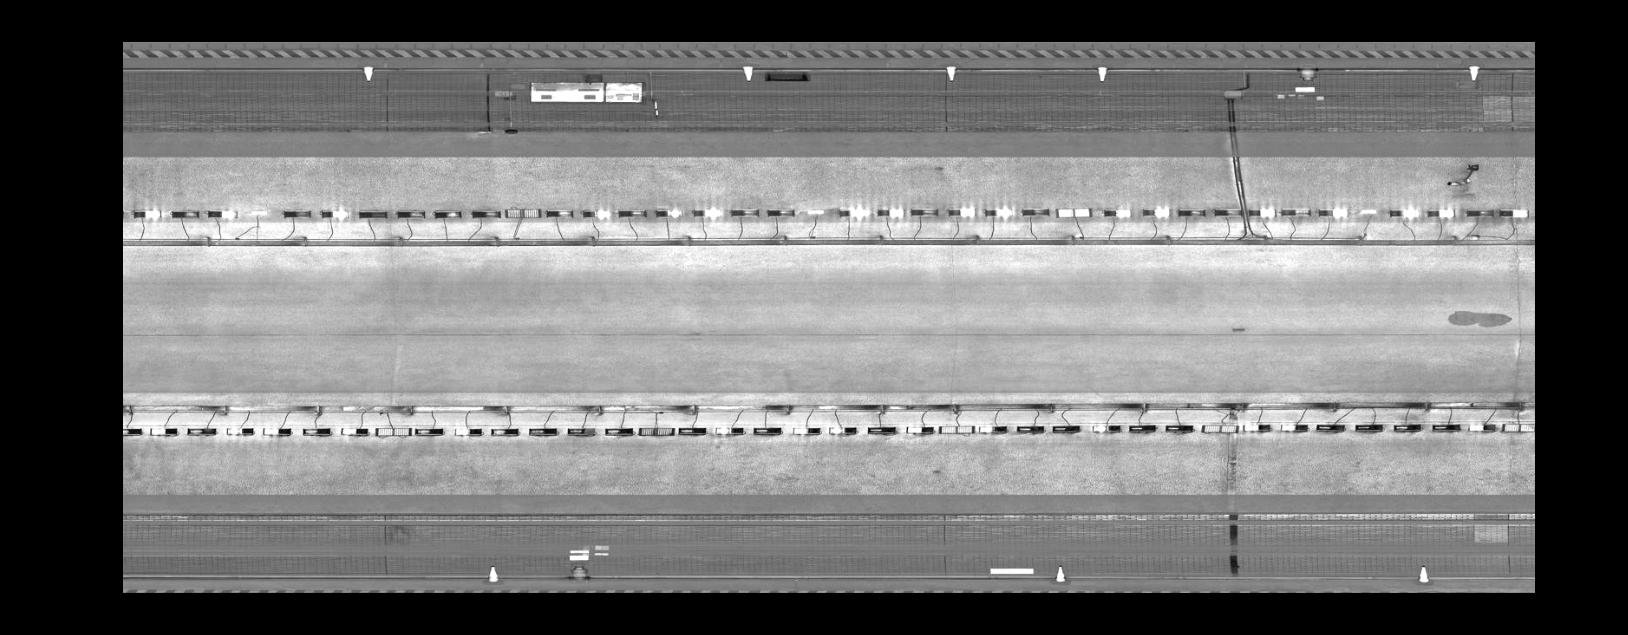light: (1052, 204, 1094, 220), (1198, 420, 1241, 435), (373, 423, 414, 438), (501, 205, 542, 220), (835, 203, 870, 220), (635, 423, 678, 437), (1139, 204, 1174, 220), (937, 422, 977, 436), (1102, 204, 1136, 220), (980, 203, 1014, 219), (1499, 419, 1534, 435), (1244, 203, 1279, 218), (336, 423, 372, 438), (564, 424, 598, 439), (452, 423, 486, 438), (430, 206, 466, 220), (183, 424, 219, 438), (1017, 204, 1051, 219), (907, 204, 941, 219), (526, 423, 560, 438), (1387, 206, 1422, 220), (468, 206, 504, 220), (355, 206, 390, 220), (864, 422, 899, 436), (144, 424, 180, 438), (131, 206, 163, 221), (203, 206, 241, 219), (1464, 420, 1501, 433), (392, 206, 427, 220), (318, 206, 352, 220), (280, 206, 315, 220), (825, 422, 860, 436), (412, 424, 446, 438), (260, 423, 294, 437), (1047, 422, 1083, 435), (711, 423, 748, 436), (874, 205, 907, 219), (1496, 206, 1531, 219), (1463, 206, 1498, 219), (1314, 205, 1350, 218), (1279, 204, 1314, 217), (1161, 422, 1196, 435), (1124, 422, 1160, 435), (1088, 422, 1123, 435), (901, 422, 937, 435), (580, 206, 613, 220), (489, 424, 521, 438), (300, 424, 332, 438), (1423, 206, 1458, 219), (223, 424, 257, 437), (946, 205, 977, 219), (1351, 421, 1387, 433), (764, 206, 797, 219), (728, 206, 761, 219), (615, 206, 648, 219), (543, 206, 576, 219), (168, 208, 201, 220), (1313, 421, 1347, 434), (1277, 421, 1310, 434), (976, 422, 1009, 435), (1209, 206, 1244, 218), (1429, 421, 1464, 433), (789, 424, 824, 436), (690, 206, 723, 219), (653, 206, 685, 219), (1013, 422, 1046, 435), (750, 424, 784, 436), (675, 424, 709, 436), (1390, 421, 1423, 433), (1240, 421, 1273, 433), (600, 425, 636, 436), (1175, 206, 1208, 218), (123, 423, 143, 435), (247, 208, 270, 217), (804, 208, 826, 215), (1358, 206, 1381, 212)
